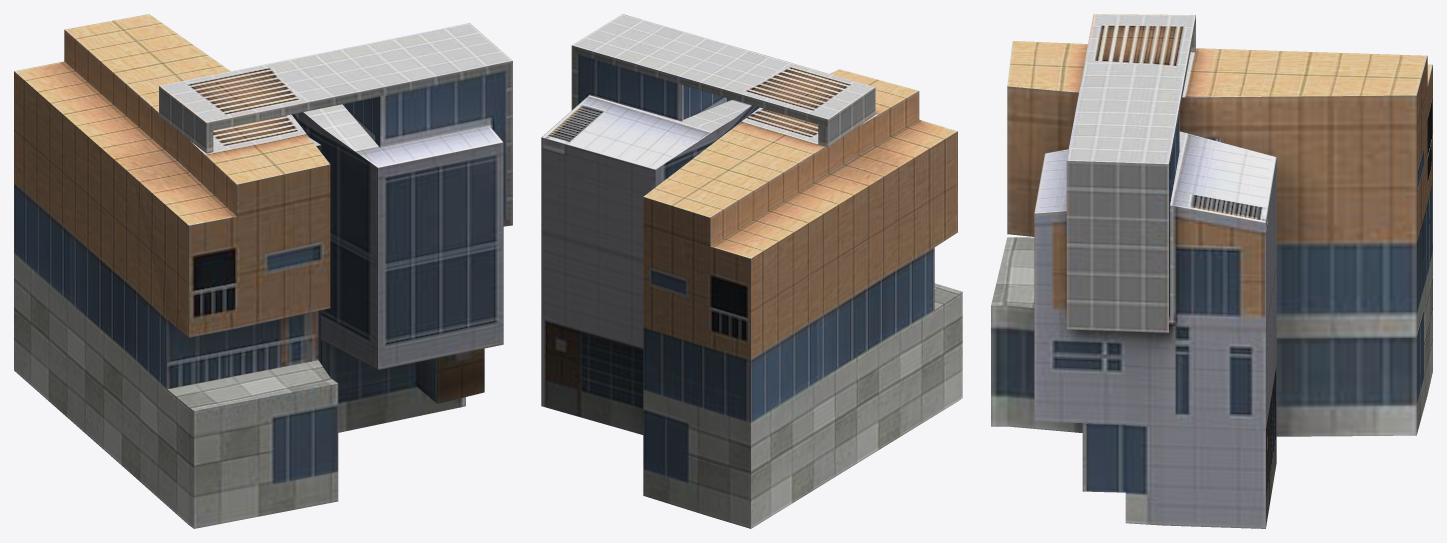
3 views of the same model, side by side, from view 1: azimuth 30°, elevation 25°; view 2: azimuth 150°, elevation 25°; view 3: azimuth 270°, elevation 25° (orthographic). The views are drawn at different scales.
Visible parts, largest first — view 1: MainBuilding; view 2: MainBuilding; view 3: MainBuilding.
Boxes of the visible parts, bbox=[...] form: MainBuilding: bbox=[14, 14, 512, 528]; MainBuilding: bbox=[541, 14, 962, 528]; MainBuilding: bbox=[991, 14, 1432, 528].
Bounding box in the file's own units: 1.22 × 1.19 × 1.28.
1 material, 1 textured.
